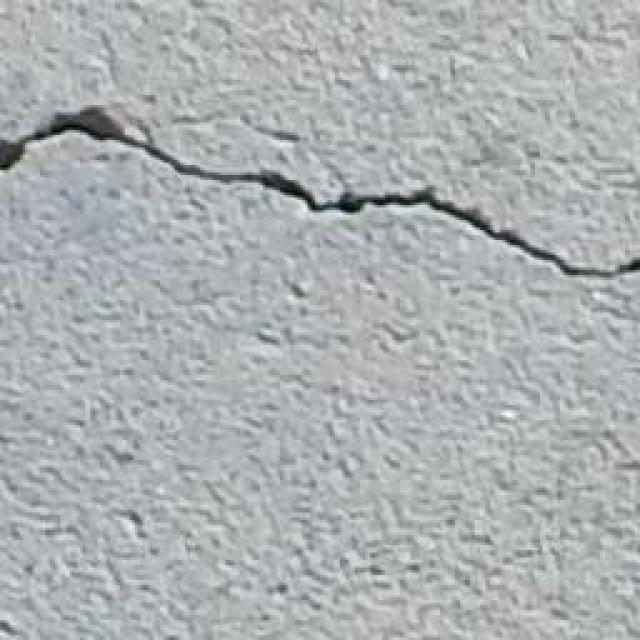concrete-crack: (0, 100, 640, 275)
